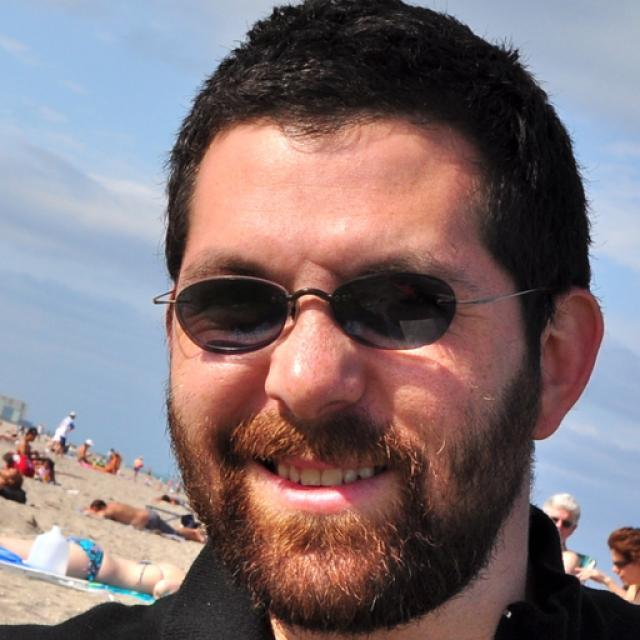happy: (166, 99, 532, 626), (542, 508, 578, 548)
